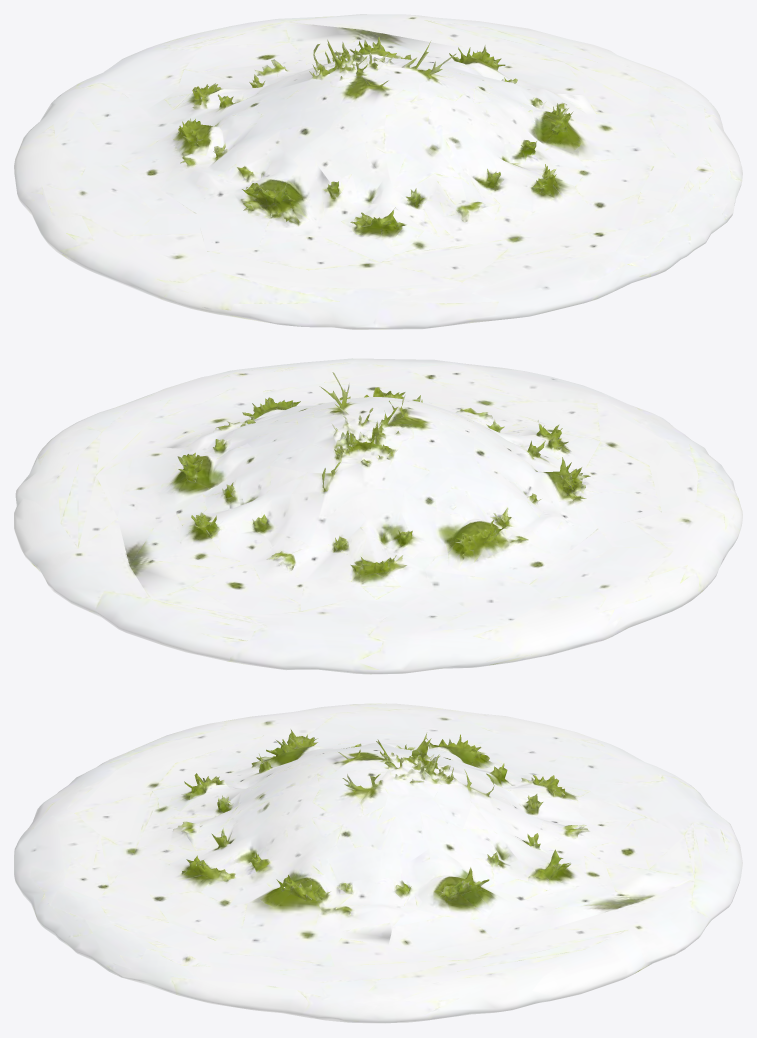
The model's file is prop-snow-mound.glb.
3 renders of one model, top to bottom at view 1: azimuth 30°, elevation 25°; view 2: azimuth 150°, elevation 25°; view 3: azimuth 270°, elevation 25°, orthographic.
Size of the model in its own units: 1.91 by 0.3988 by 1.89.
1 material, 1 textured.
